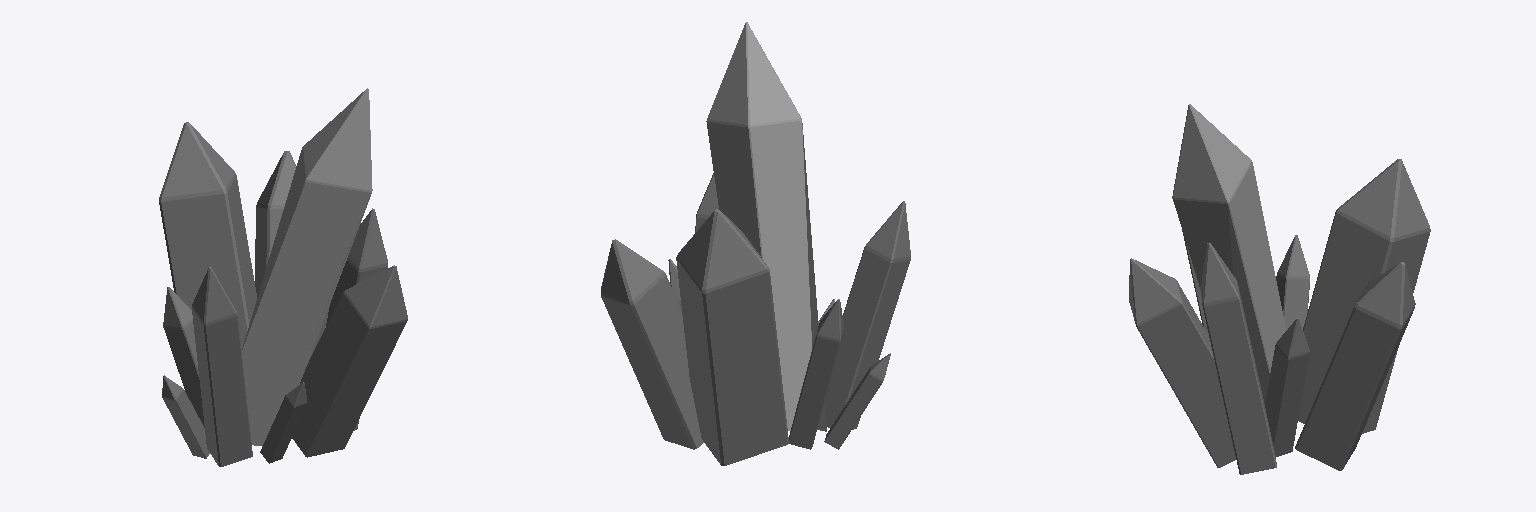
Rendered from Stage3.obj.
The picture shows the model from 3 angles: view 1: azimuth 30°, elevation 25°; view 2: azimuth 150°, elevation 25°; view 3: azimuth 270°, elevation 25°; orthographic projection.
Visible parts, largest first — view 1: CrystalStage3_CrystalCrack.001; view 2: CrystalStage3_CrystalCrack.001; view 3: CrystalStage3_CrystalCrack.001.
Part boxes in pixels (x1,y1,x2,y2): CrystalStage3_CrystalCrack.001: (159, 88, 407, 466); CrystalStage3_CrystalCrack.001: (601, 22, 910, 465); CrystalStage3_CrystalCrack.001: (1129, 104, 1430, 474).
Bounding box in the file's own units: 0.7488 × 1.22 × 0.9068.